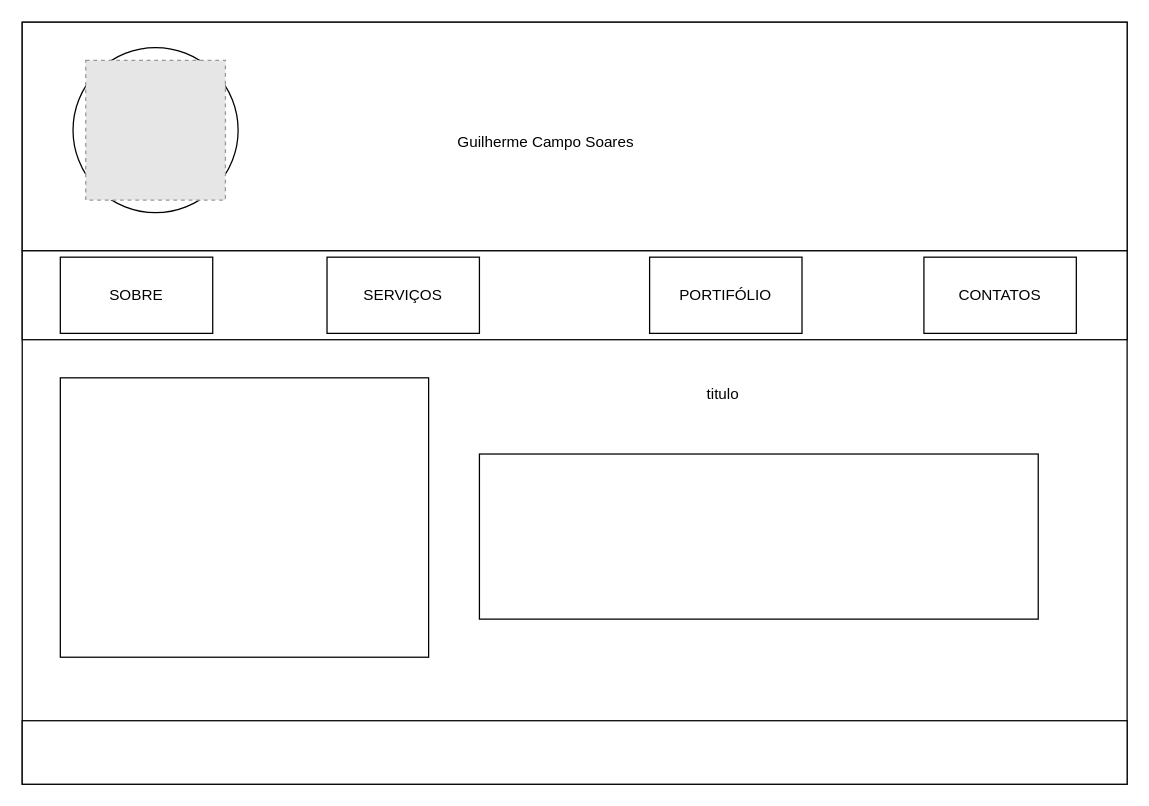
This 1149x806 diagram has some shape labels left out. Grey dashed boxes stand in for pictures. The centre of each missing label's shape, as x and y in pixels:
descrição da imagem, contexto: the point at 758,536
imagem: the point at 244,517
Rodapé: the point at 574,751
